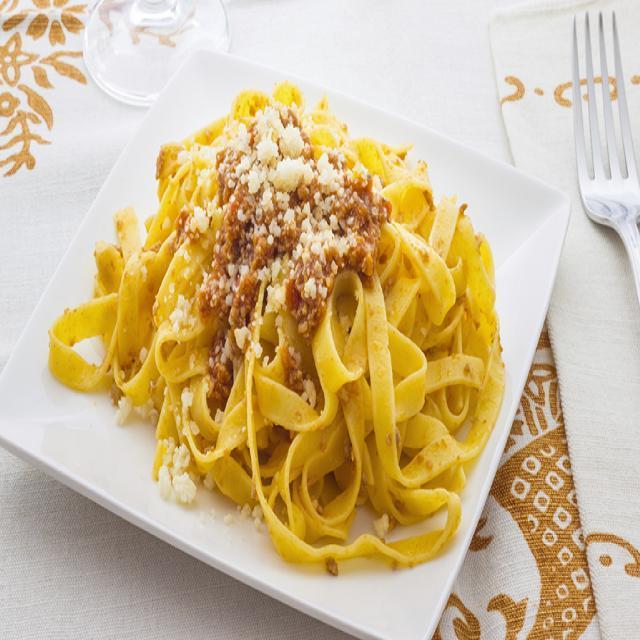Pasta al ragu: (78, 37, 518, 567)
